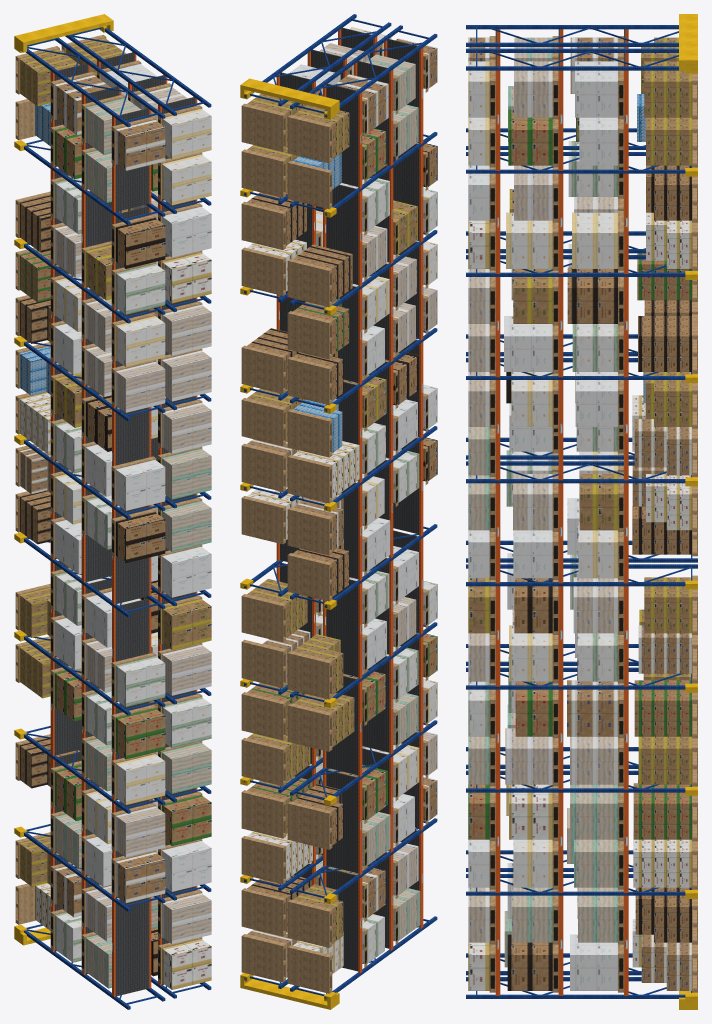
The model's file is racks_w5_s.gltf.
3 renders of one model, left to right at view 1: azimuth 30°, elevation 25°; view 2: azimuth 150°, elevation 25°; view 3: azimuth 270°, elevation 25°, orthographic. The views are drawn at different scales.
Visible parts, largest first — view 1: racks_w5_s; view 2: racks_w5_s; view 3: racks_w5_s.
Part boxes in pixels (x1=…): racks_w5_s: x1=14, y1=14, x2=211, y2=1009; racks_w5_s: x1=240, y1=14, x2=437, y2=1009; racks_w5_s: x1=466, y1=14, x2=697, y2=1009.
Size of the model in its own units: 2.6 by 24.86 by 5.5.
20 materials, 20 textured.
